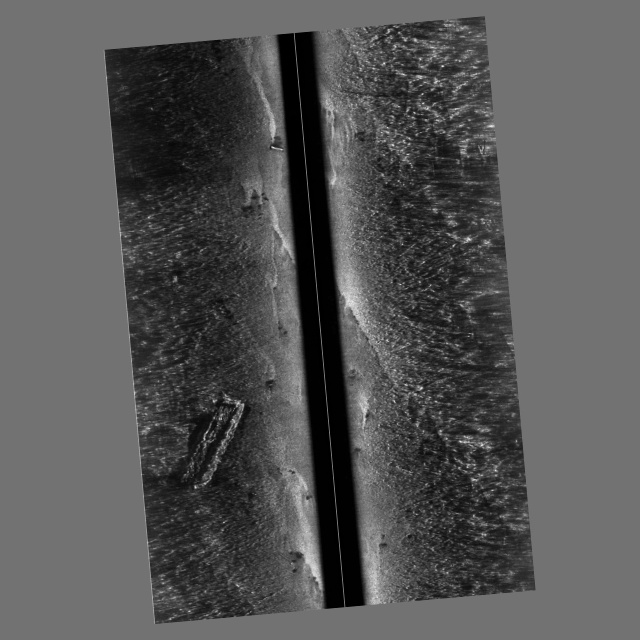Shipwreck: (152, 127, 512, 490)
